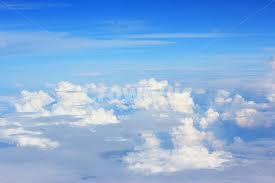sky: (1, 1, 275, 180)
